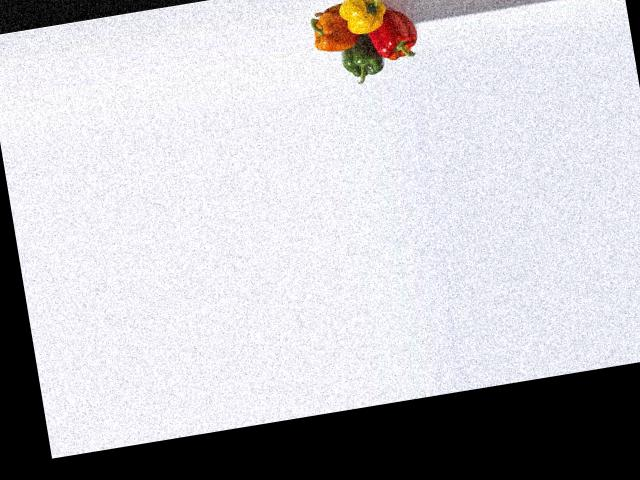bell_pepper: (366, 5, 423, 68)
